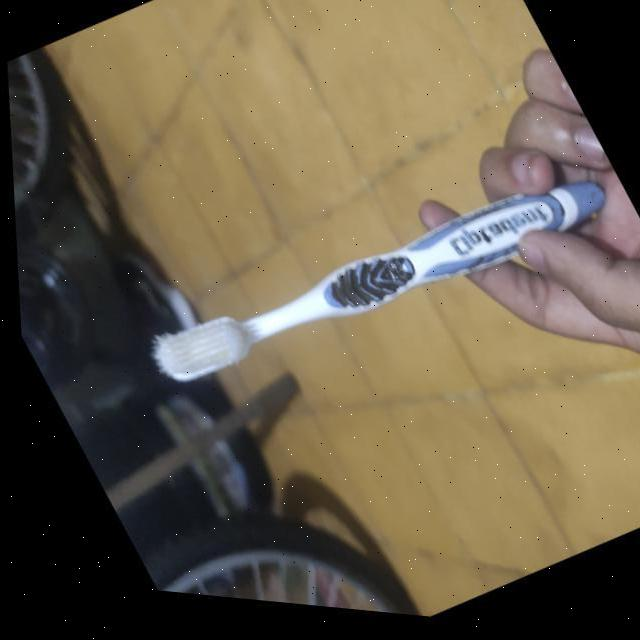toothbrush: (112, 100, 640, 472)
